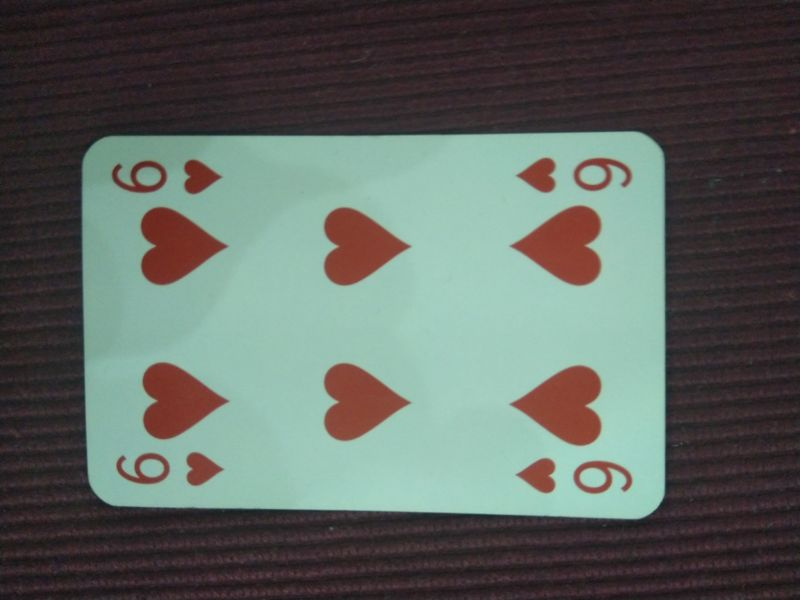6h: (511, 445, 643, 505), (508, 143, 635, 198), (106, 151, 230, 200), (107, 445, 230, 492)
